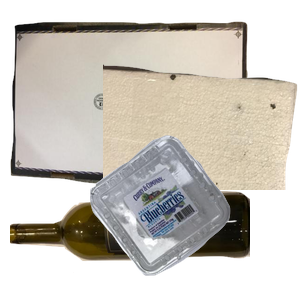cardboard: (10, 19, 250, 199)
glass: (10, 189, 250, 300)
plastic: (88, 133, 300, 300)
trash: (103, 62, 300, 242)
